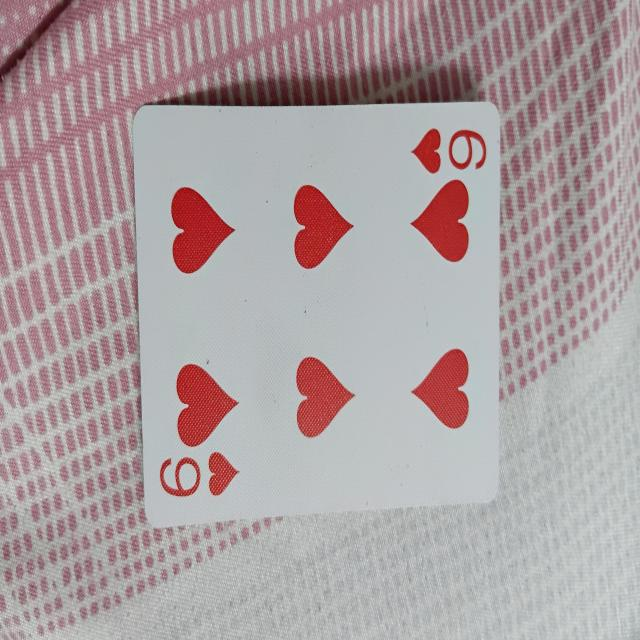6H: (132, 103, 500, 505)
